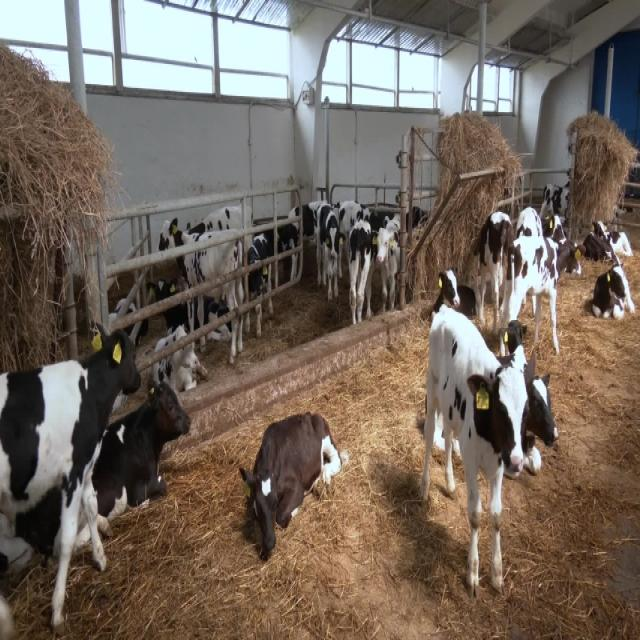cow: (1, 183, 635, 628), (0, 320, 141, 633), (415, 302, 558, 598), (75, 376, 191, 545), (238, 409, 348, 560), (150, 323, 208, 393), (583, 261, 635, 319)
